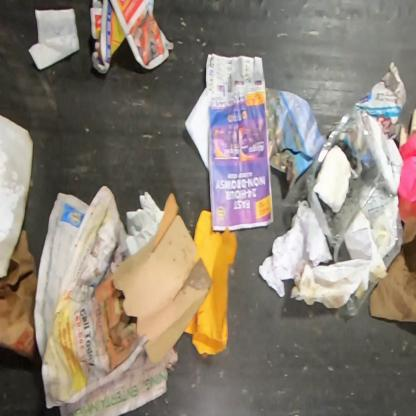cardboard: (110, 193, 213, 364), (184, 210, 238, 356), (0, 230, 38, 363), (369, 216, 415, 323)
rigid_plastic: (304, 110, 404, 270), (346, 271, 381, 316)
